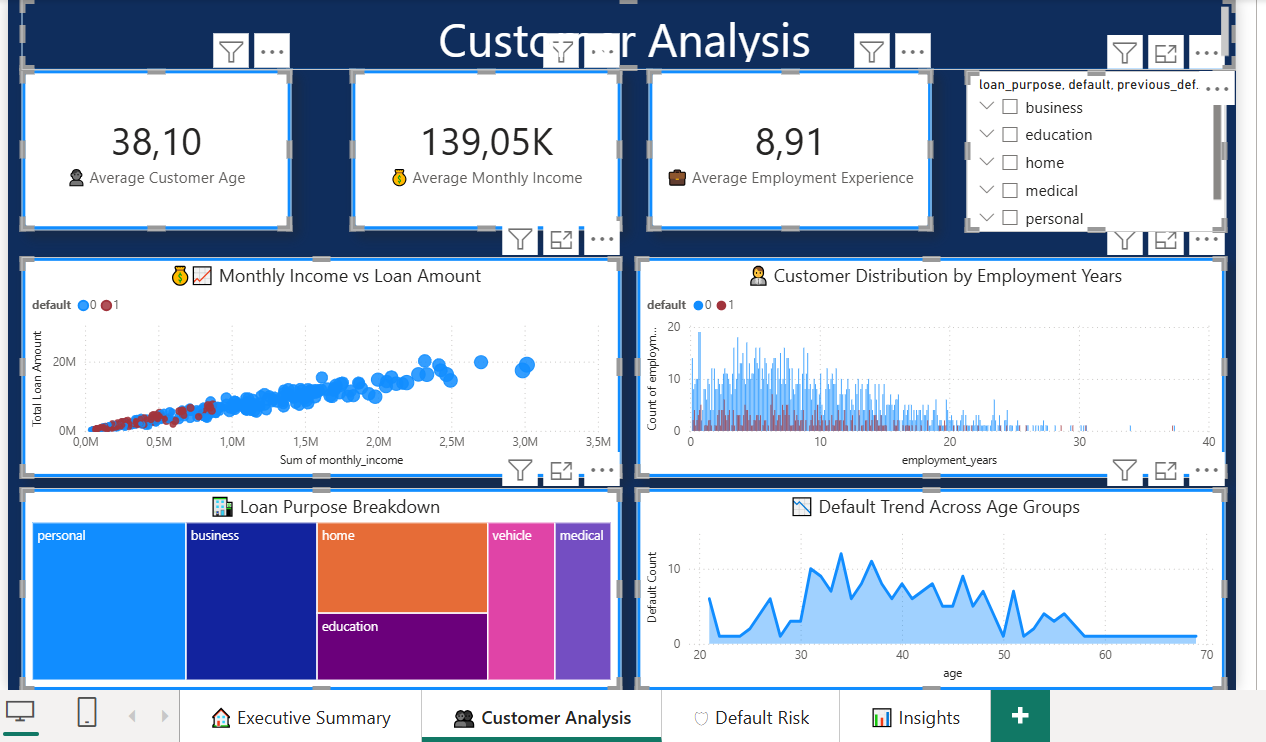

The page's visual inventory and layout, read from the dashboard file:
{"tool":"powerbi","page":{"name":"👥 Customer Analysis","canvas":[1280,720],"ordinal":1},"visuals":[{"type":"card","fields":{"Values":["loan_data.Average Age"]},"box":[14.1,73.5,281.3,167.2],"z":0},{"type":"card","fields":{"Values":["loan_data.Average Income"]},"box":[357.9,73.5,281.3,167.2],"z":1000},{"type":"card","fields":{"Values":["Avg(loan_data.employment_years)"]},"box":[667.4,73.5,295.4,167.2],"z":2000},{"type":"scatterChart","title":"💰📈 Monthly Income vs Loan Amount","fields":{"X":["Sum(loan_data.monthly_income)"],"Y":["loan_data.Total Loan Amount"],"Series":["loan_data.default"],"Size":["Sum(loan_data.credit_score)"],"Category":["loan_data.employment_years"]},"box":[14.1,268.8,625.2,229.8],"z":3000},{"type":"clusteredColumnChart","title":"👨💼 Customer Distribution by Employment Years","fields":{"Category":["loan_data.employment_years"],"Y":["CountNonNull(loan_data.employment_years)"],"Series":["loan_data.default"]},"box":[654.9,268.8,614.3,229.8],"z":4000},{"type":"treemap","title":"🏦 Loan Purpose Breakdown","fields":{"Group":["loan_data.loan_purpose"],"Values":["CountNonNull(loan_data.loan_purpose)"]},"box":[14,509,625,211],"z":5000},{"type":"areaChart","title":"📉 Default Trend Across Age Groups","fields":{"Category":["loan_data.age"],"Y":["loan_data.Default Count"]},"box":[654.9,509.5,614.3,211],"z":6000},{"type":"slicer","fields":{"Values":["loan_data.loan_purpose","loan_data.default","loan_data.previous_default"]},"box":[998.7,75,270.4,167.2],"z":7000},{"type":"textbox","box":[0,0,1280.1,73.5],"z":8000},{"type":"actionButton","box":[14.1,17.2,100,40.6],"z":8001}]}

Visuals, with their boxes in screenshot pixels (x1, y1, x2, y2):
card - loan_data.Average Age: select_region(7, 62, 282, 225)
card - loan_data.Average Income: select_region(343, 62, 617, 225)
card - Avg(loan_data.employment_years): select_region(644, 62, 933, 225)
"💰📈 Monthly Income vs Loan Amount" scatterChart: select_region(7, 252, 617, 476)
"👨💼 Customer Distribution by Employment Years" clusteredColumnChart: select_region(632, 252, 1231, 476)
"🏦 Loan Purpose Breakdown" treemap: select_region(7, 487, 617, 692)
"📉 Default Trend Across Age Groups" areaChart: select_region(632, 487, 1231, 693)
slicer - loan_data.loan_purpose x loan_data.default: select_region(968, 63, 1231, 226)
textbox: select_region(0, 0, 1242, 62)
actionButton: select_region(7, 7, 105, 46)
